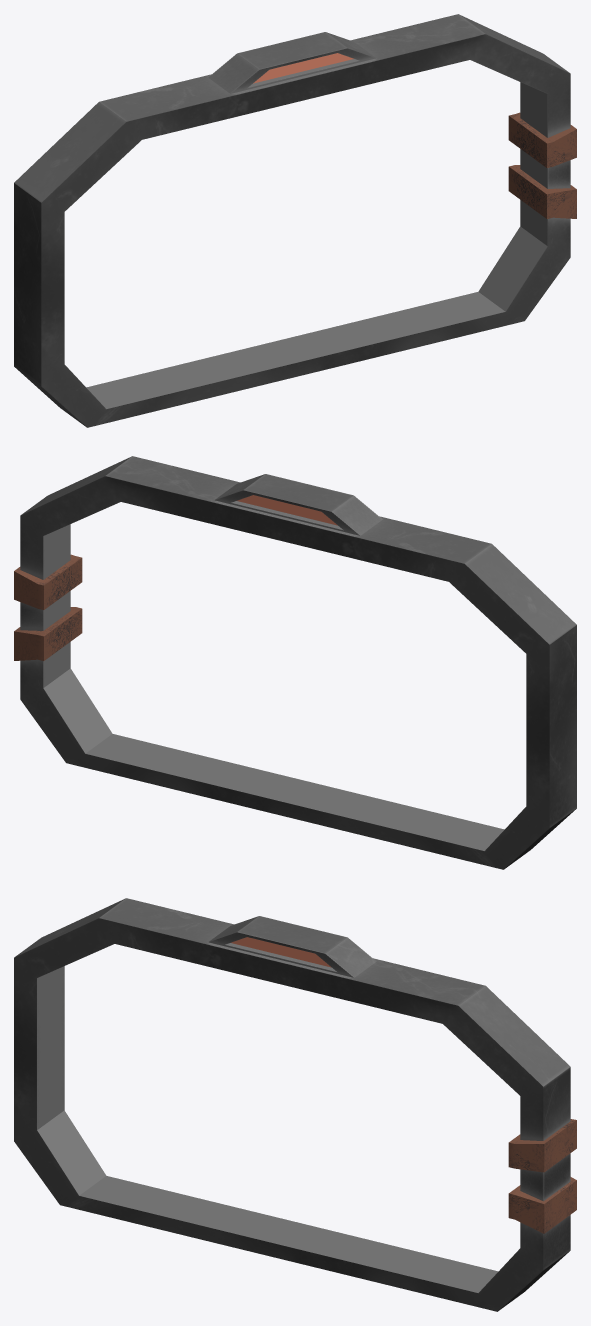
The model's file is scene-old.glb.
3 renders of one model, top to bottom at view 1: azimuth 30°, elevation 25°; view 2: azimuth 150°, elevation 25°; view 3: azimuth 330°, elevation 25°, orthographic.
Visible parts, largest first — view 1: pCube8; view 2: pCube8; view 3: pCube8.
Boxes of the visible parts, x1=… form: pCube8: x1=14, y1=14, x2=576, y2=427; pCube8: x1=14, y1=456, x2=576, y2=869; pCube8: x1=14, y1=898, x2=576, y2=1311.
Size of the model in its own units: 5.85 by 3.29 by 0.7265.
Materials: 1 (1 with a texture image).
